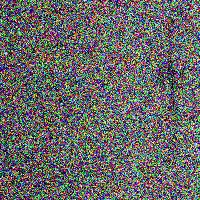inclusion: (158, 93, 182, 186), (155, 53, 181, 95), (164, 16, 178, 44)
